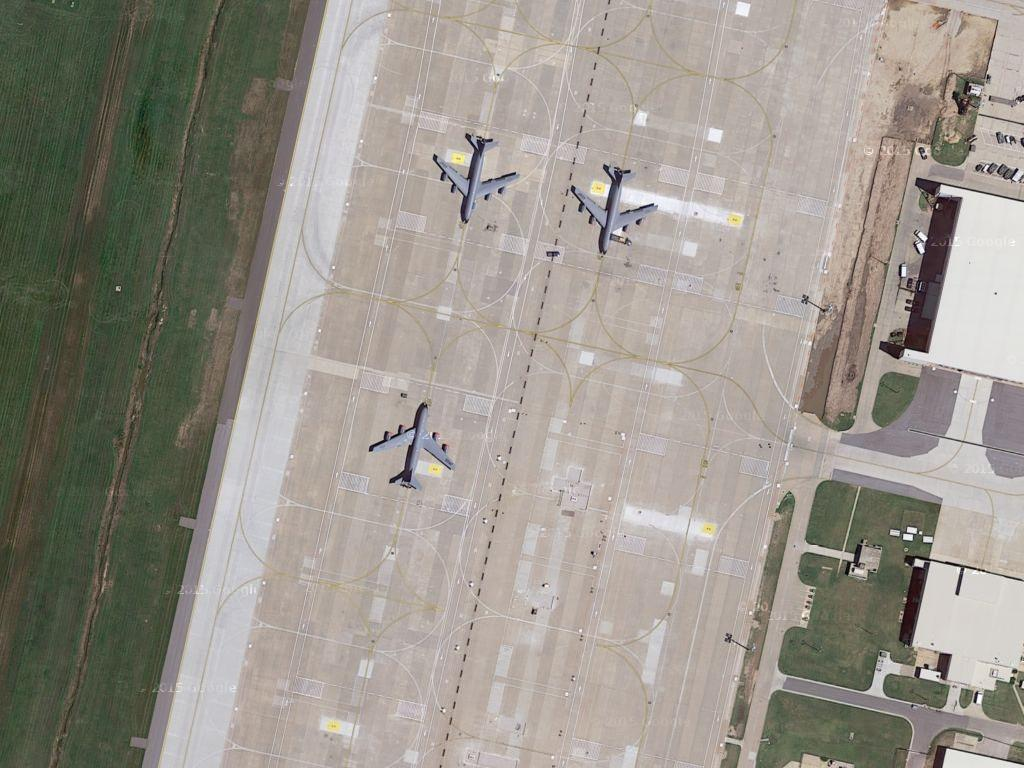KC-135: (562, 159, 662, 256), (362, 398, 459, 495), (428, 130, 524, 225)
